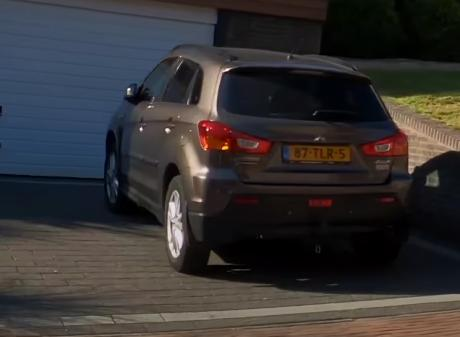license-plate: (281, 142, 350, 165)
